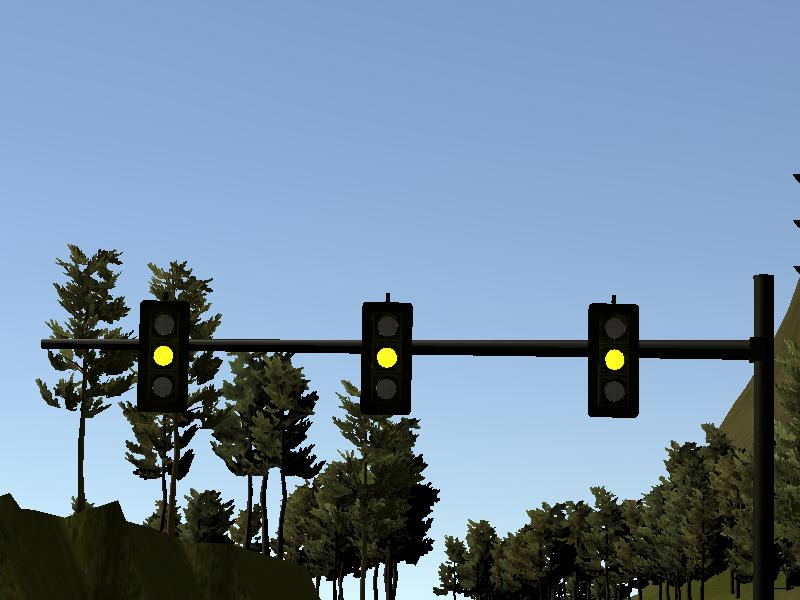not_red: (586, 302, 642, 417), (360, 300, 409, 413), (137, 298, 185, 409)
